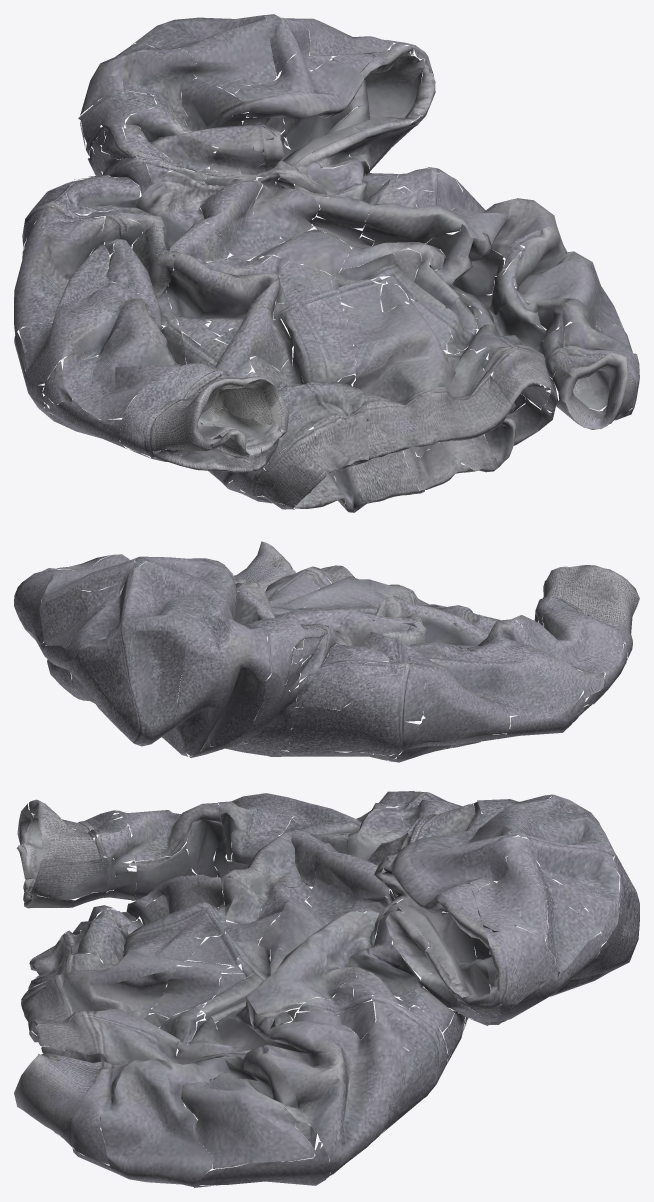
File: hoodie_prop.glb
3 views of the same model, one above another, from view 1: azimuth 30°, elevation 25°; view 2: azimuth 150°, elevation 25°; view 3: azimuth 270°, elevation 25° (orthographic). The views are drawn at different scales.
Parts seen in each view (by area): view 1: prop_hoodie; view 2: prop_hoodie; view 3: prop_hoodie.
Boxes of the visible parts, x1,y1,x2,y2 form: prop_hoodie: [14, 14, 639, 512]; prop_hoodie: [14, 541, 639, 762]; prop_hoodie: [14, 791, 639, 1187].
Size of the model in its own units: 0.9834 by 0.4933 by 0.9341.
Materials: 1 (1 with a texture image).
